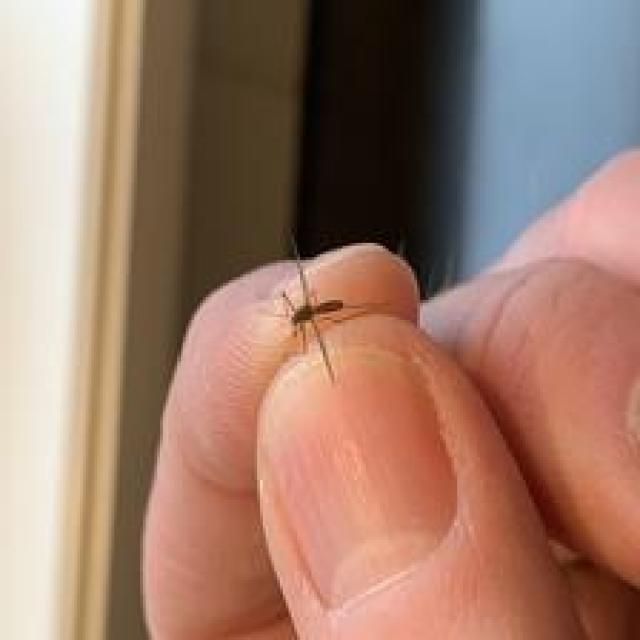Culex: (272, 233, 388, 384)
